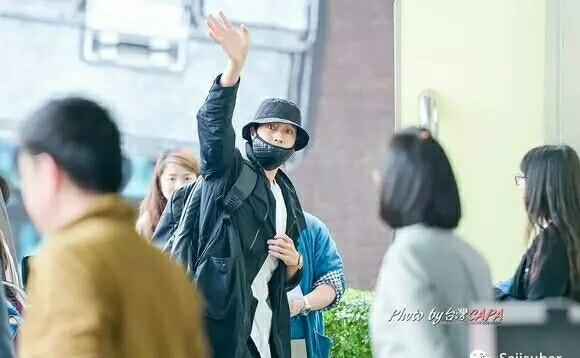NONE: (161, 170, 199, 201)
WRONG: (250, 117, 302, 169)
